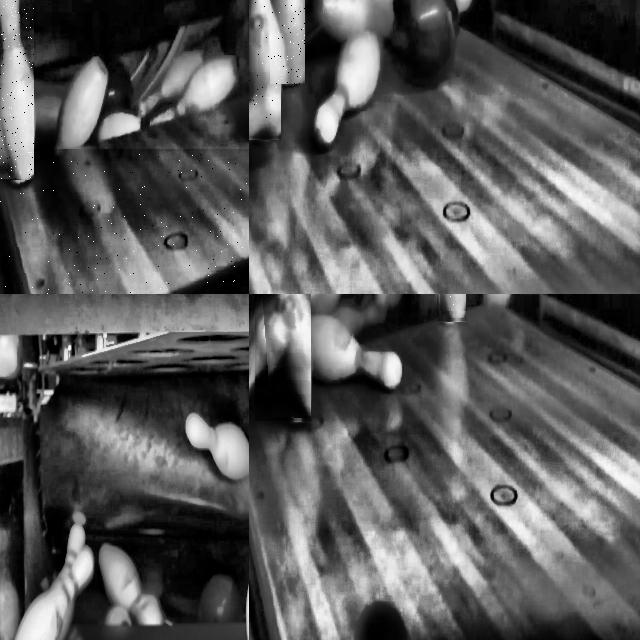bowling-ball: (390, 0, 459, 86)
bowling-pins: (274, 294, 311, 419), (249, 0, 281, 137), (273, 0, 305, 84)
